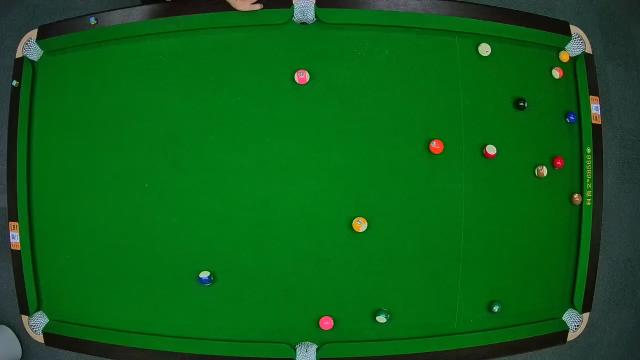bag1: (24, 40, 40, 62)
bag2: (292, 2, 316, 22)
bag3: (566, 34, 584, 56)
bag4: (27, 310, 49, 336)
bag5: (295, 342, 319, 360)
bag6: (562, 308, 584, 332)
ball0: (477, 42, 493, 58)
ball1: (556, 48, 570, 64)
ball10: (198, 270, 216, 288)
ball11: (482, 144, 500, 160)
ball12: (295, 68, 311, 86)
ball13: (551, 66, 567, 78)
ball14: (373, 308, 391, 324)
ball15: (534, 164, 548, 180)
ball2: (565, 110, 579, 126)
ball3: (552, 154, 566, 170)
ball4: (318, 314, 334, 332)
ball5: (428, 136, 444, 156)
ball6: (488, 300, 504, 314)
ball7: (572, 192, 584, 207)
ball8: (514, 96, 528, 112)
ball9: (352, 216, 368, 234)
